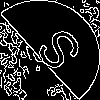S: (25, 25, 86, 81)
